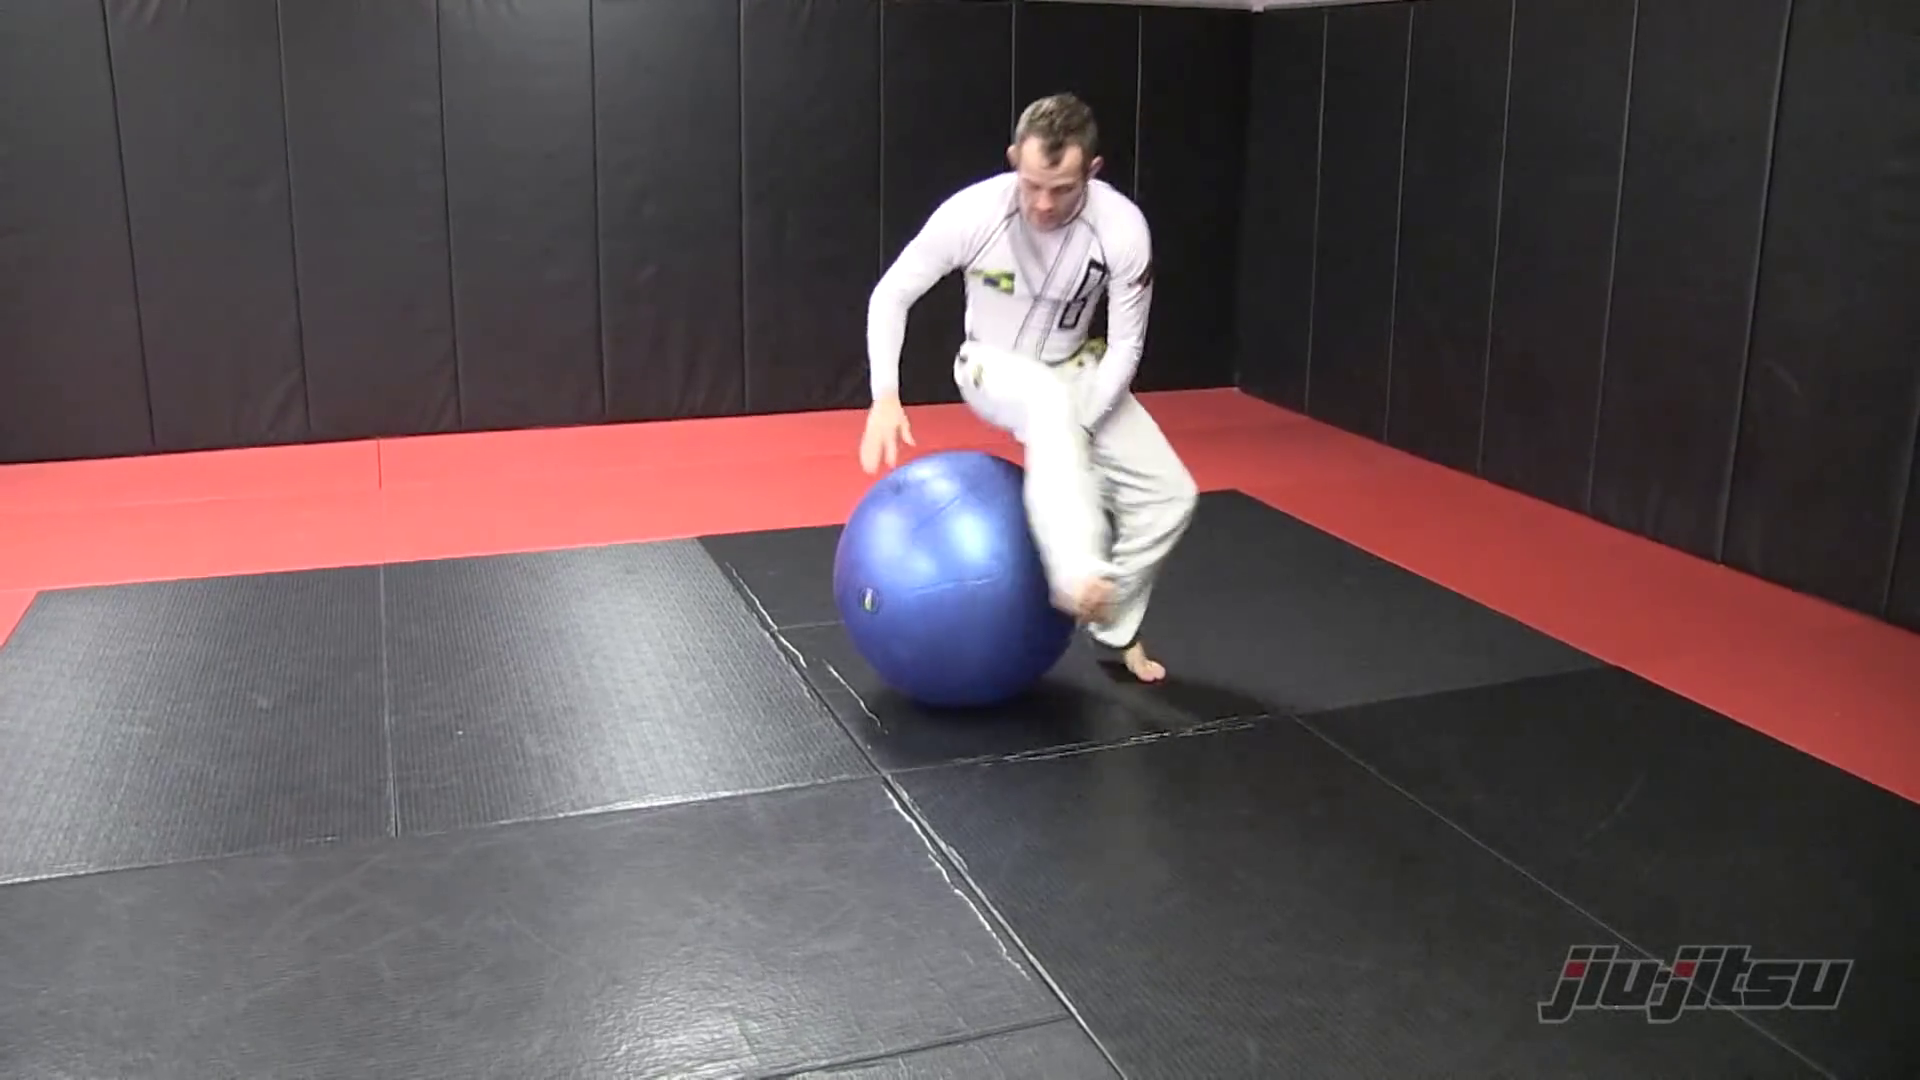yogaball: (811, 443, 1102, 723)
